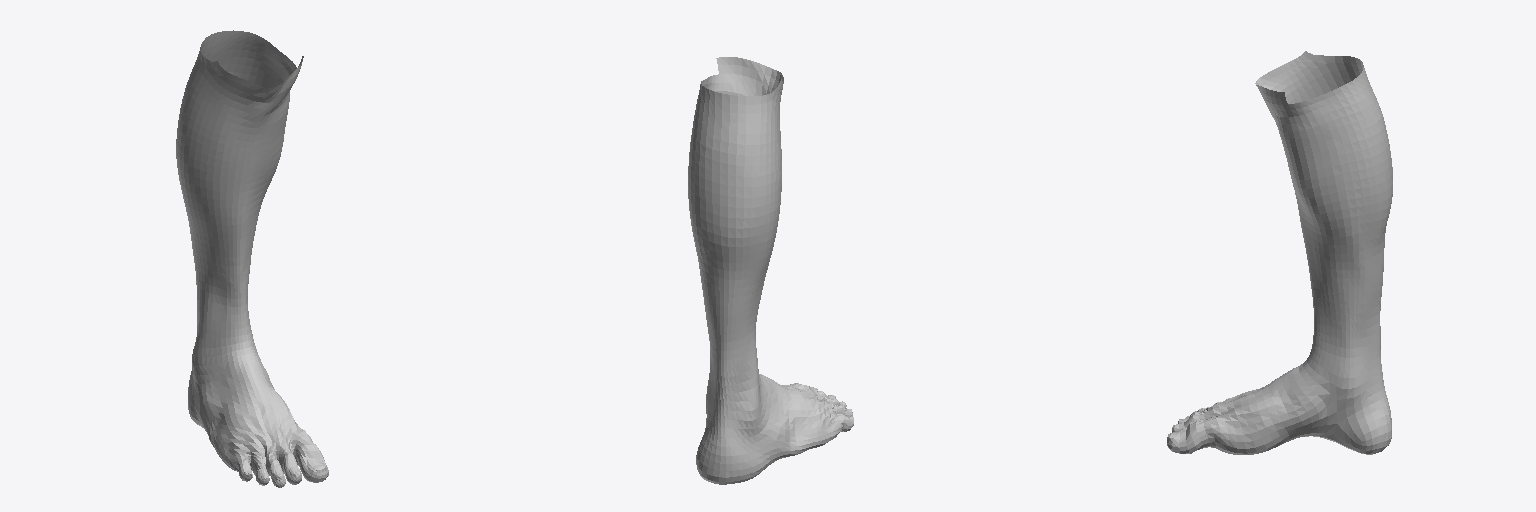
The model's file is right_calf.obj.
The picture shows the model from 3 angles: view 1: azimuth 30°, elevation 25°; view 2: azimuth 150°, elevation 25°; view 3: azimuth 270°, elevation 25°; orthographic projection.
Visible parts, largest first — view 1: 000_Male_base_-_piece_1; view 2: 000_Male_base_-_piece_1; view 3: 000_Male_base_-_piece_1.
Boxes of the visible parts, <box> form: 000_Male_base_-_piece_1: <box>176,30,328,487</box>; 000_Male_base_-_piece_1: <box>688,57,853,484</box>; 000_Male_base_-_piece_1: <box>1167,51,1392,454</box>.
Size of the model in its own units: 1.7 by 6.33 by 3.38.